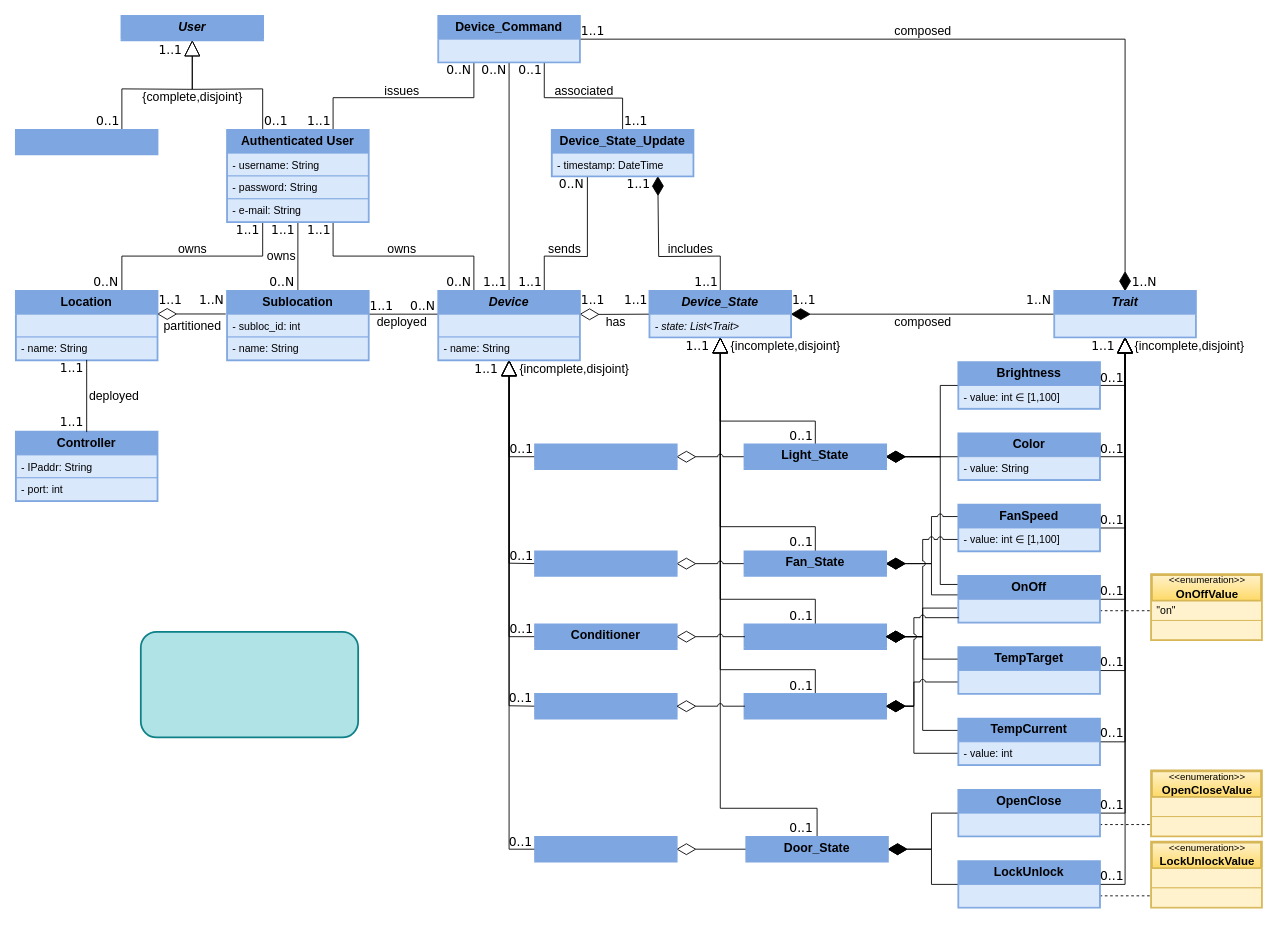
The diagram is 1278 pixels wide and 925 high, and some of its shapes have lost their labels. Each missing label, with the centre of its shape:
"close": (1206,826)
"lock": (1206,878)
"off": (1206,630)
"open": (1206,806)
"unlock": (1206,897)
- actions: List<Trait>: (508,50)
- dev_id: int: (508,325)
- loc_id: int: (86,325)
- value: int ∈ [0,50]: (1029,681)
- value: LockUnlockValue: (1029,895)
- value: OnOffValue: (1029,610)
- value: OpenCloseValue: (1029,824)
- value: void: (1124,325)
Conditioner_State: (815,636)
Door: (605,849)
Fan: (605,563)
JANET Service Analysis Classes Diagram: (249,684)
Light: (605,456)
Thermostat: (605,706)
Thermostat_State: (815,706)
Unauthenticated User: (86,141)
